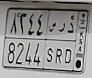4: (25, 12, 34, 66), (34, 12, 43, 65)
8: (6, 13, 17, 64)
D: (65, 22, 75, 64)
R: (55, 22, 65, 64)
S: (46, 22, 56, 62)
